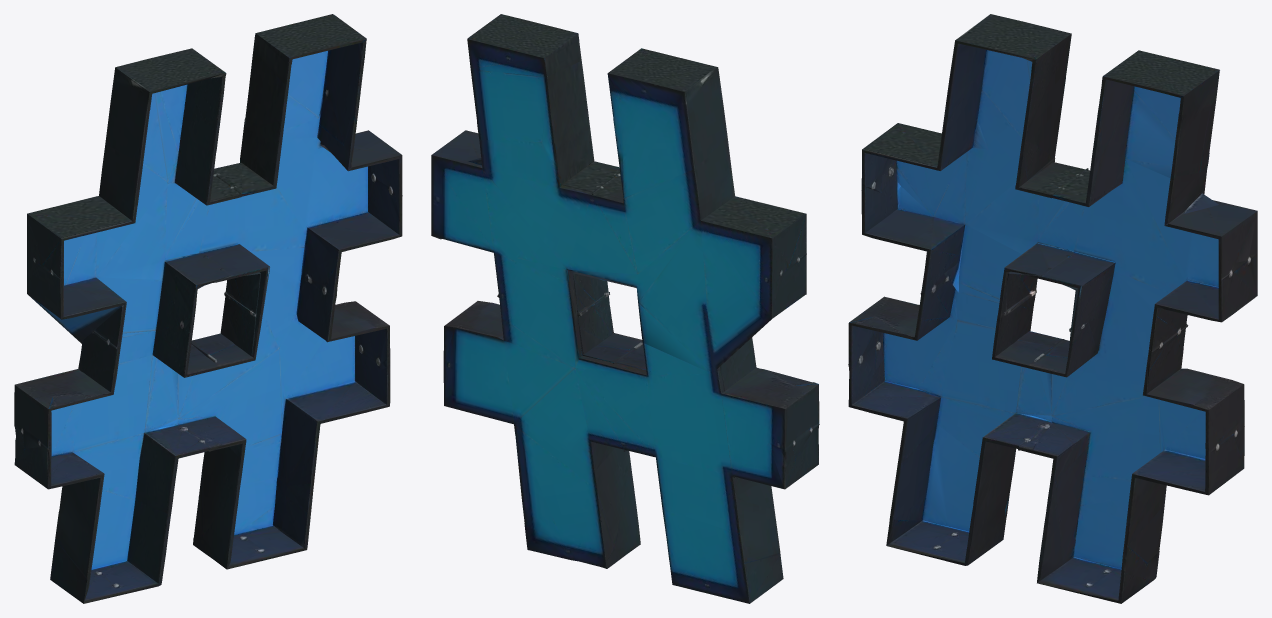
The model's file is hashtag_neon.glb.
3 views of the same model, side by side, from view 1: azimuth 30°, elevation 25°; view 2: azimuth 150°, elevation 25°; view 3: azimuth 330°, elevation 25° (orthographic). The views are drawn at different scales.
Parts seen in each view (by area): view 1: 0; view 2: 0; view 3: 0.
Boxes of the visible parts, x1,y1,x2,y2 form: 0: [14, 14, 402, 603]; 0: [431, 14, 819, 603]; 0: [848, 14, 1257, 603].
Size of the model in its own units: 0.6 by 0.8 by 0.1.
Materials: 1 (1 with a texture image).
